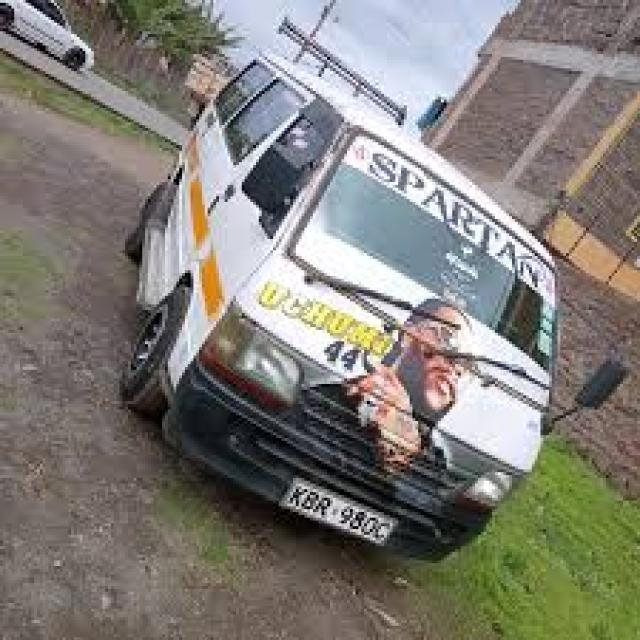matatu: (50, 15, 618, 606)
